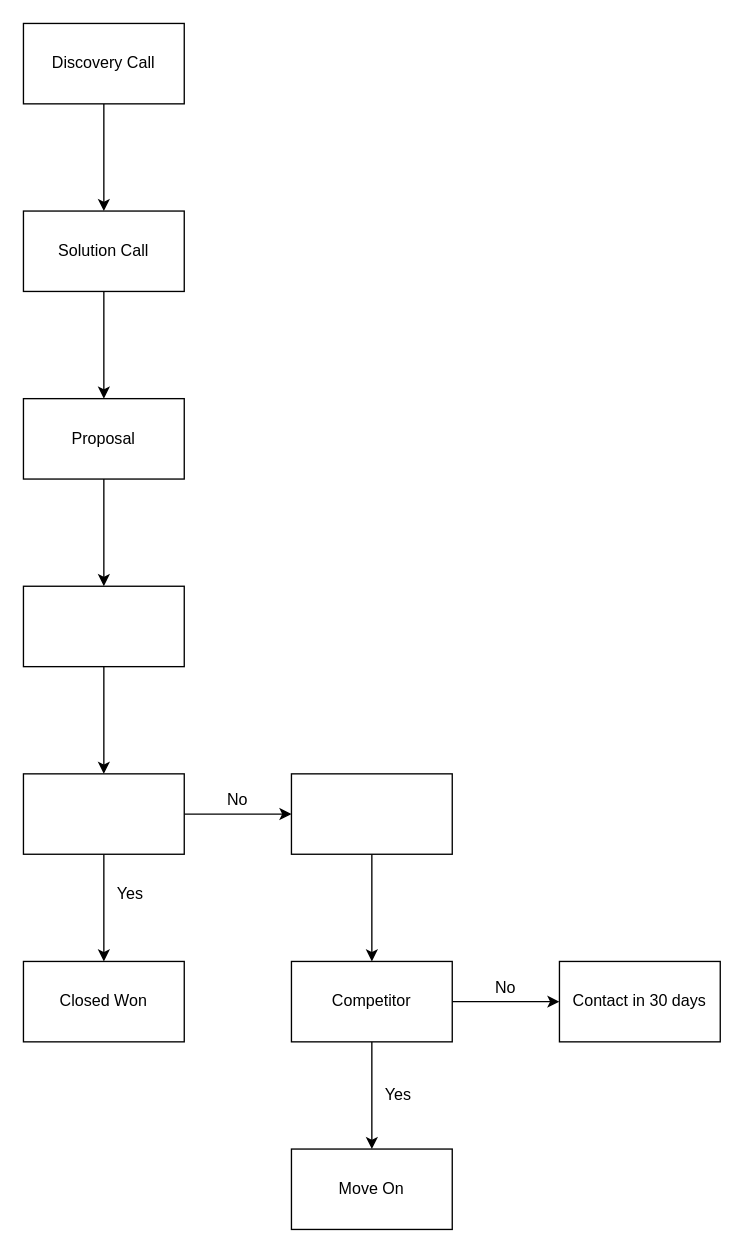
The diagram is 744 pixels wide and 1253 high, and some of its shapes have lost their labels. Each missing label, with the centre of its shape:
"Close" belongs at point (103, 813).
"Closed Lost" belongs at point (371, 813).
"Feedback Call" belongs at point (103, 626).
